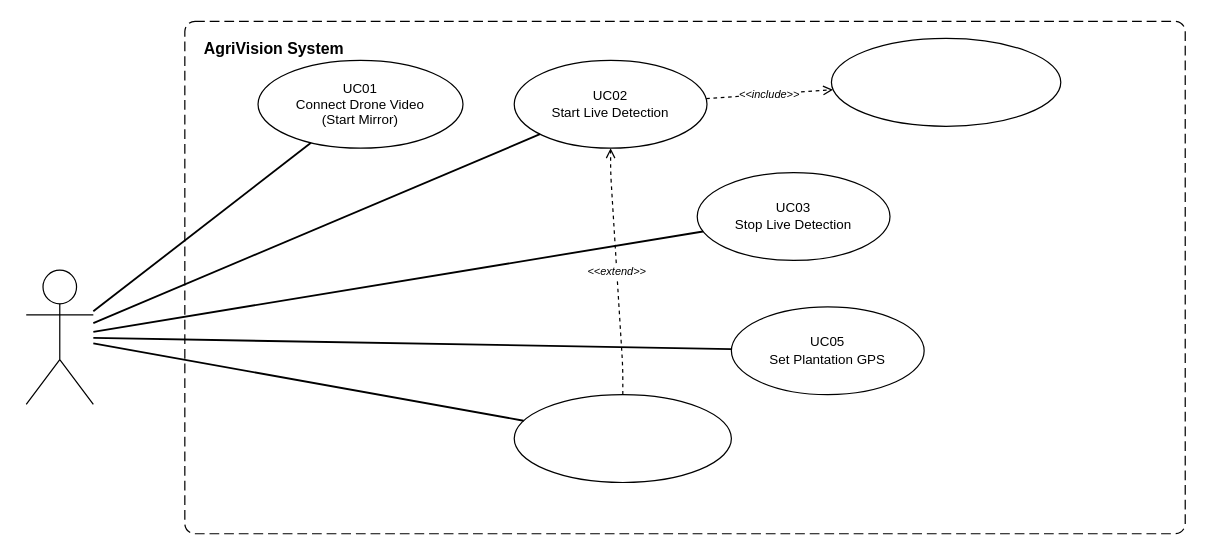
Some shapes in this 1207 by 555 pixel diagram are drawn without their labels. Here are the shapes that lost their labels. From the top down, the centre of each, then its label:
(945,81): UC04 Monitor Results (feed · summary · map)
(59,336): Drone Pilot
(622,438): UC06 Capture & Export Report
